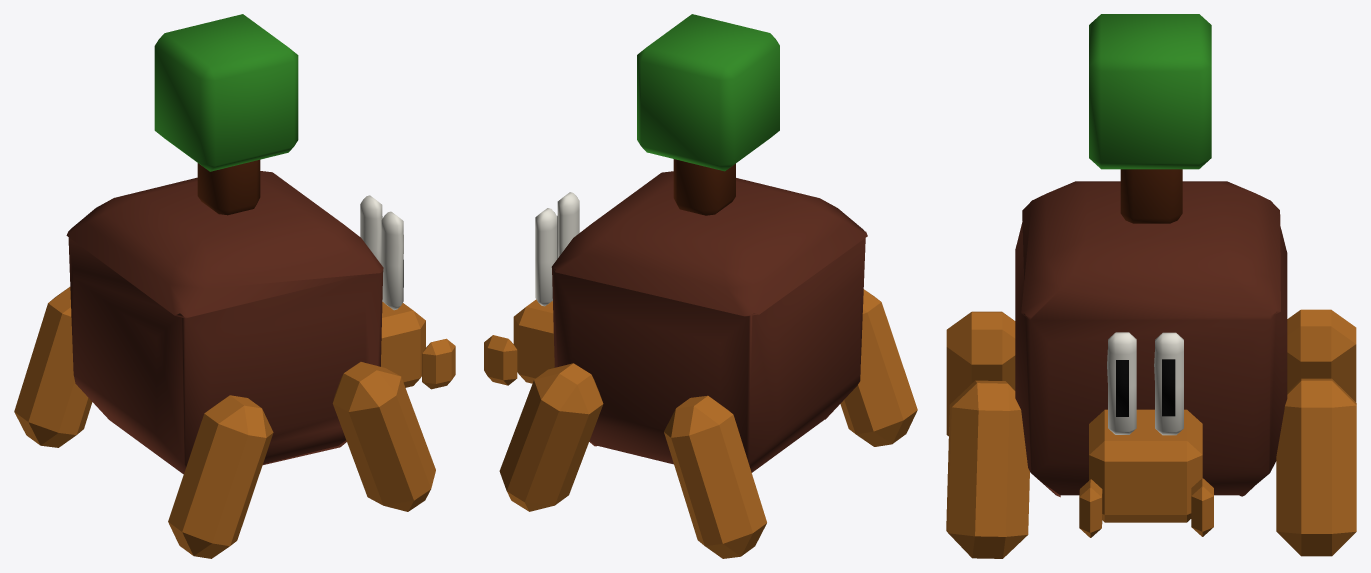
The model's file is Chull.glb.
3 views of the same model, side by side, from view 1: azimuth 30°, elevation 25°; view 2: azimuth 150°, elevation 25°; view 3: azimuth 270°, elevation 25° (orthographic). The views are drawn at different scales.
Visible parts, largest first — view 1: Caparazon, Cube.001, Pierna4, Pierna1, Pierna3, Cabeza, Cube, OjoIzquerdo, Mandibula2, Ojo derecho; view 2: Caparazon, Cube.001, Pierna3, Pierna2, Pierna4, Cube, Cabeza, Ojo derecho, Mandibula1, OjoIzquerdo; view 3: Caparazon, Cube.001, Pierna1, Pierna2, Cabeza, Pierna4, Pierna3, Cube, Ojo derecho, OjoIzquerdo, Mandibula2, Mandibula1 (+2 smaller).
Boxes of the visible parts, x1,y1,x2,y2 form: Caparazon: [66, 171, 383, 474]; Cube.001: [154, 14, 298, 171]; Pierna4: [168, 395, 273, 558]; Pierna1: [332, 362, 435, 511]; Pierna3: [14, 287, 92, 447]; Cabeza: [381, 302, 425, 387]; Cube: [197, 159, 260, 215]; OjoIzquerdo: [381, 211, 403, 310]; Mandibula2: [422, 338, 455, 389]; Ojo derecho: [360, 195, 382, 264]; Caparazon: [551, 171, 867, 472]; Cube.001: [637, 14, 779, 171]; Pierna3: [664, 395, 766, 558]; Pierna2: [499, 363, 603, 511]; Pierna4: [840, 289, 917, 446]; Cube: [673, 159, 735, 215]; Cabeza: [513, 299, 554, 383]; Ojo derecho: [535, 208, 557, 306]; Mandibula1: [484, 335, 517, 385]; OjoIzquerdo: [557, 192, 579, 258]; Caparazon: [1015, 181, 1287, 497]; Cube.001: [1089, 14, 1211, 169]; Pierna1: [946, 380, 1029, 558]; Pierna2: [1276, 378, 1356, 556]; Cabeza: [1089, 409, 1202, 522]; Pierna4: [946, 311, 1015, 436]; Pierna3: [1287, 309, 1356, 402]; Cube: [1120, 169, 1182, 223]; Ojo derecho: [1154, 332, 1183, 435]; OjoIzquerdo: [1107, 332, 1136, 434]; Mandibula2: [1079, 479, 1102, 537]; Mandibula1: [1191, 478, 1213, 536].
Size of the model in its own units: 4.67 by 5.9 by 4.66.
